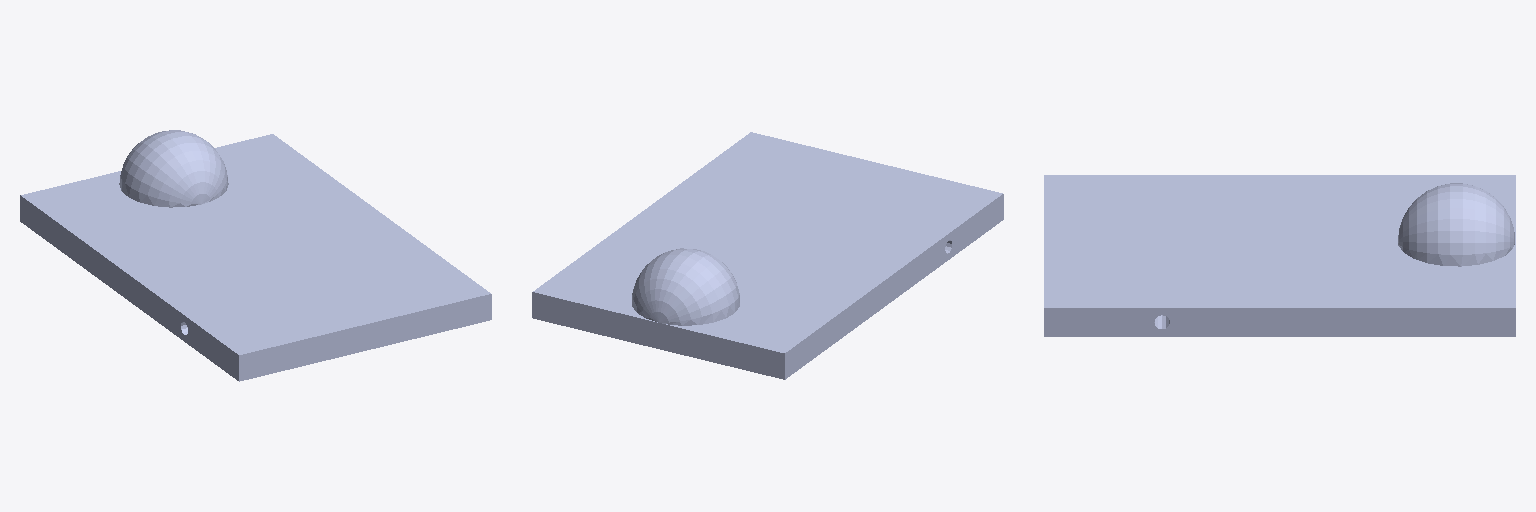
The robot description file, URDF, robot "damo_car":
<robot
  name="damo_car">
  <link
    name="base_link">
    <inertial>
      <origin
        xyz="0.0073055 -0.014956 0.14475"
        rpy="0 0 0" />
      <mass
        value="0.16184" />
      <inertia
        ixx="0.00032204"
        ixy="1.7421E-21"
        ixz="-4.8145E-20"
        iyy="0.00044301"
        iyz="8.4706E-06"
        izz="0.0001277" />
    </inertial>
    <visual>
      <origin
        xyz="0 0 0"
        rpy="0 0 0" />
      <geometry>
        <mesh
          filename="package://damo_car/meshes/base_link.STL" />
      </geometry>
      <material
        name="">
        <color
          rgba="0.79216 0.81961 0.93333 1" />
      </material>
    </visual>
    <collision>
      <origin
        xyz="0 0 0"
        rpy="0 0 0" />
      <geometry>
        <mesh
          filename="package://damo_car/meshes/base_link.STL" />
      </geometry>
    </collision>
  </link>
  <link
    name="wheel_R_Link">
    <inertial>
      <origin
        xyz="0 0.005 2.7756E-17"
        rpy="0 0 0" />
      <mass
        value="0.019439" />
      <inertia
        ixx="3.2296E-06"
        ixy="-4.2967E-38"
        ixz="1.3256E-37"
        iyy="6.1353E-06"
        iyz="4.1135E-22"
        izz="3.2296E-06" />
    </inertial>
    <visual>
      <origin
        xyz="0 0 0"
        rpy="0 0 0" />
      <geometry>
        <mesh
          filename="package://damo_car/meshes/wheel_R_Link.STL" />
      </geometry>
      <material
        name="">
        <color
          rgba="0.79216 0.81961 0.93333 1" />
      </material>
    </visual>
    <collision>
      <origin
        xyz="0 0 0"
        rpy="0 0 0" />
      <geometry>
        <mesh
          filename="package://damo_car/meshes/wheel_R_Link.STL" />
      </geometry>
    </collision>
  </link>
  <joint
    name="wheel_R"
    type="continuous">
    <origin
      xyz="-0.043695 -0.1875 -0.015982"
      rpy="1.5708 -1.5708 0" />
    <parent
      link="base_link" />
    <child
      link="wheel_R_Link" />
    <axis
      xyz="0 -1 0" />
  </joint>
  <link
    name="wheel_L_Link">
    <inertial>
      <origin
        xyz="0 -0.005 0"
        rpy="0 0 0" />
      <mass
        value="0.019439" />
      <inertia
        ixx="3.2296E-06"
        ixy="-5.9881E-39"
        ixz="2.0404E-37"
        iyy="6.1353E-06"
        iyz="4.108E-22"
        izz="3.2296E-06" />
    </inertial>
    <visual>
      <origin
        xyz="0 0 0"
        rpy="0 0 0" />
      <geometry>
        <mesh
          filename="package://damo_car/meshes/wheel_L_Link.STL" />
      </geometry>
      <material
        name="">
        <color
          rgba="0.79216 0.81961 0.93333 1" />
      </material>
    </visual>
    <collision>
      <origin
        xyz="0 0 0"
        rpy="0 0 0" />
      <geometry>
        <mesh
          filename="package://damo_car/meshes/wheel_L_Link.STL" />
      </geometry>
    </collision>
  </link>
  <joint
    name="wheel_L"
    type="continuous">
    <origin
      xyz="0.058305 -0.1875 -0.015982"
      rpy="1.5708 -1.5708 0" />
    <parent
      link="base_link" />
    <child
      link="wheel_L_Link" />
    <axis
      xyz="0 -1 0" />
  </joint>
</robot>

--- Render facts (derived) ---
The picture shows the robot from 3 angles, left to right: view 1: azimuth 30°, elevation 25°; view 2: azimuth 150°, elevation 25°; view 3: azimuth 270°, elevation 25°; orthographic projection.
Robot: damo_car — 3 links, 2 joints (2 continuous); root link base_link; default pose: every joint at zero.
Links seen in each view (by area): view 1: base_link; view 2: base_link; view 3: base_link.
Boxes of the visible links, box(x1,y1,x2,y2) form: base_link: box(20, 130, 491, 381); base_link: box(532, 132, 1003, 379); base_link: box(1044, 175, 1515, 336).
Bounding box of the posed robot: 0.1 × 0.15 × 0.0285 m (x, y, z).
Meshes: 3 distinct files referenced, 1 mesh visuals loaded (1 binary STL); not drawn: 2 (reference not matched to a file when rendering).